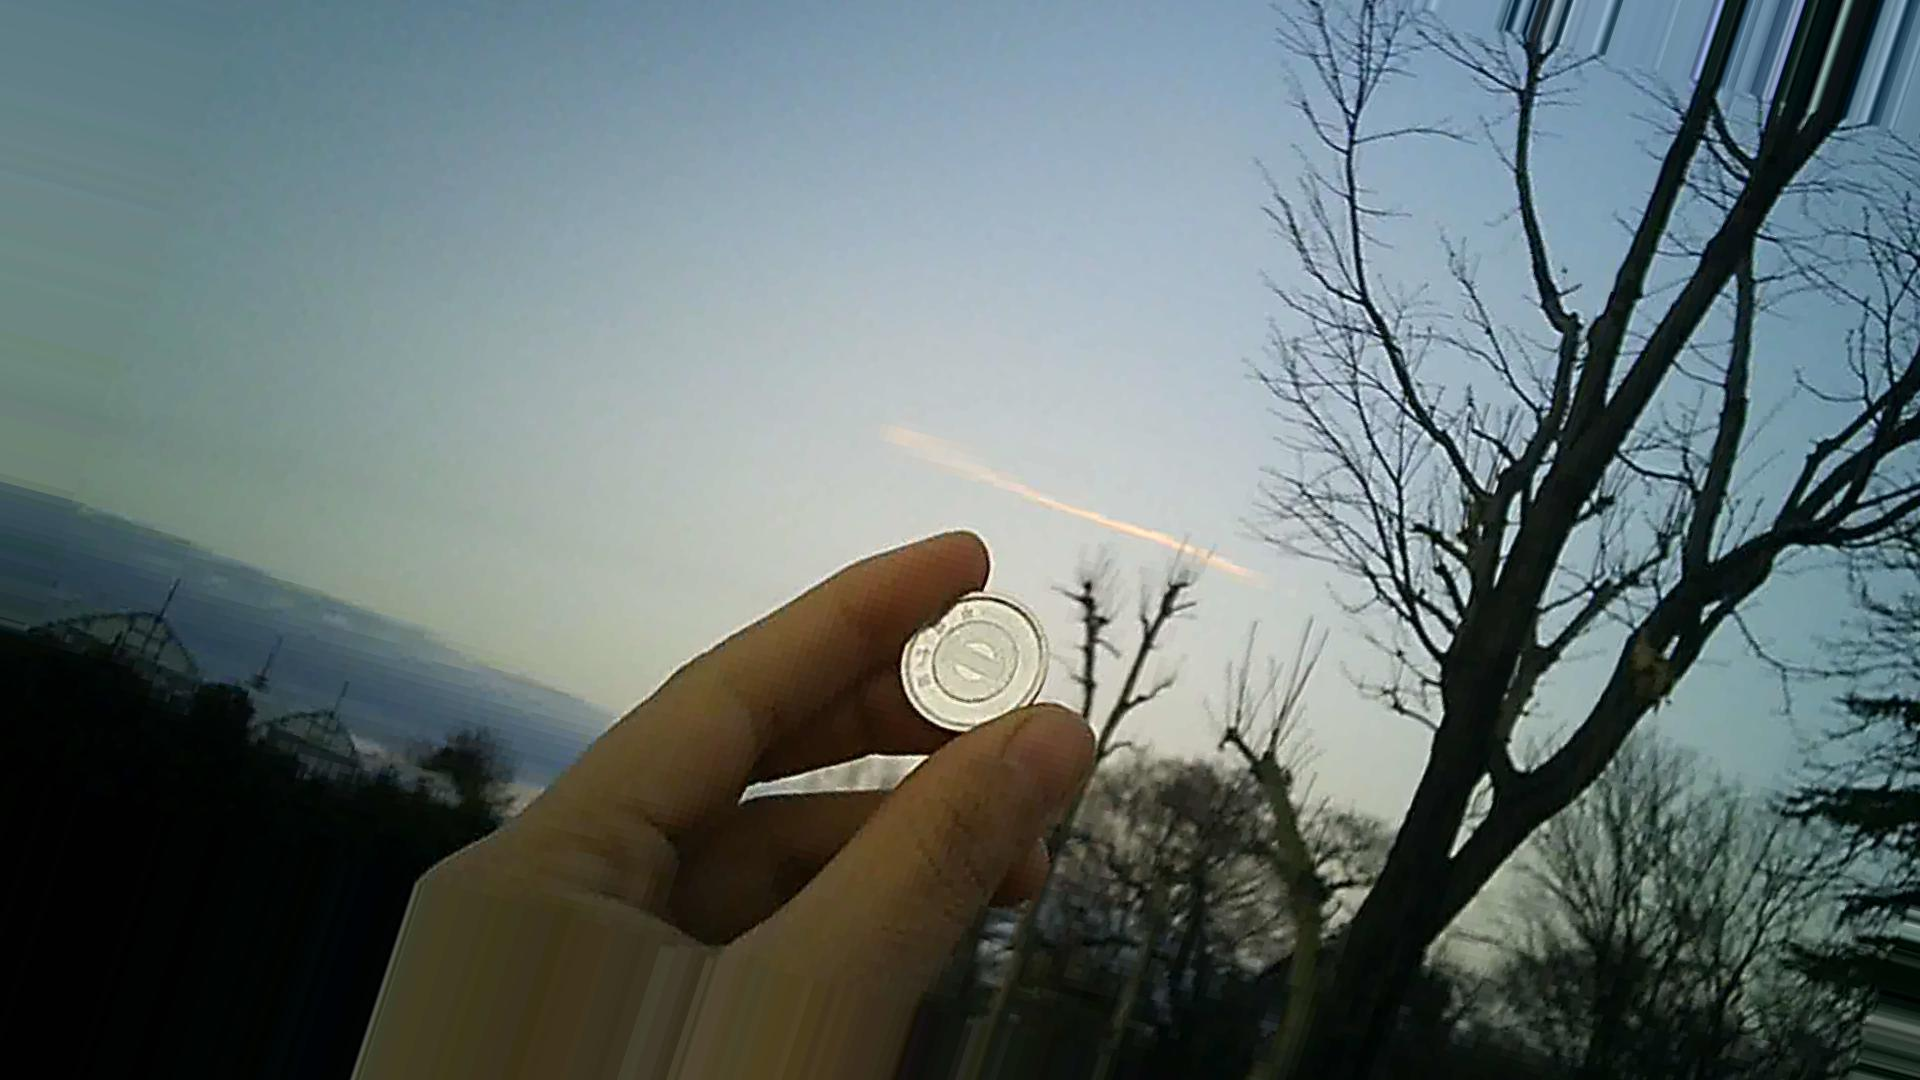1 Yen: (897, 579, 1067, 736)
